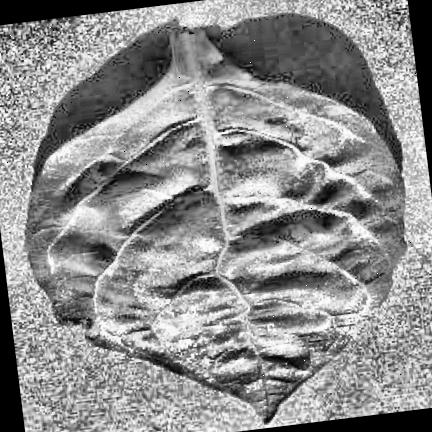leaf: (26, 27, 403, 422)
